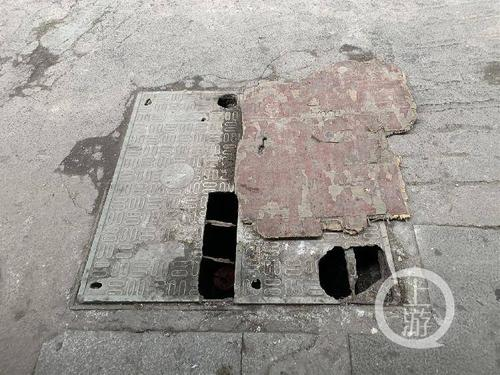broke: (69, 72, 424, 327)
